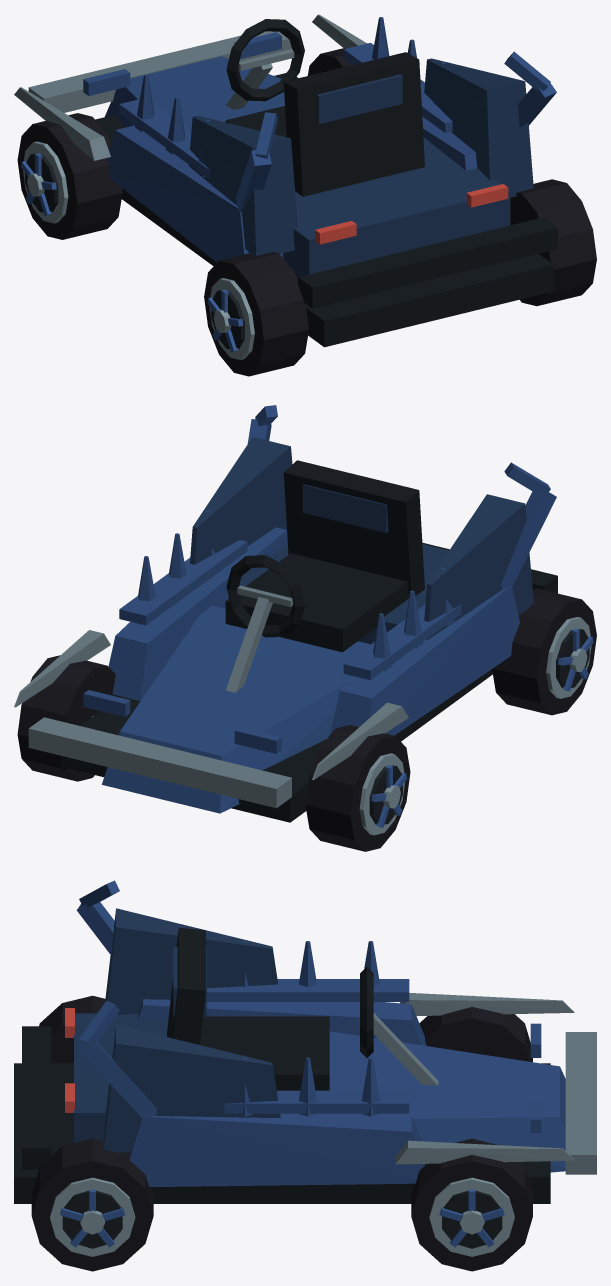
The model's file is kart.glb.
3 renders of one model, top to bottom at view 1: azimuth 30°, elevation 25°; view 2: azimuth 150°, elevation 25°; view 3: azimuth 270°, elevation 25°, orthographic.
Parts seen in each view (by area): view 1: chassis, wheel-rear-left, wheel-front-left, wheel-rear-right, wheel-front-right; view 2: chassis, wheel-front-left, wheel-rear-left, wheel-front-right; view 3: chassis, wheel-rear-right, wheel-front-right, wheel-front-left, wheel-rear-left.
Boxes of the visible parts, <box> form: chassis: <box>14,14,557,347</box>; wheel-rear-left: <box>204,252,308,376</box>; wheel-front-left: <box>17,113,122,239</box>; wheel-rear-right: <box>510,179,596,306</box>; wheel-front-right: <box>307,44,373,75</box>; chassis: <box>14,405,557,822</box>; wheel-front-left: <box>305,725,410,851</box>; wheel-rear-left: <box>492,588,596,715</box>; wheel-front-right: <box>17,655,120,781</box>; chassis: <box>14,880,596,1203</box>; wheel-rear-right: <box>31,1138,153,1271</box>; wheel-front-right: <box>411,1138,532,1271</box>; wheel-front-left: <box>419,995,532,1062</box>; wheel-rear-left: <box>39,995,105,1063</box>.
Bounding box in the file's own units: 2.16 × 1.38 × 2.97.
